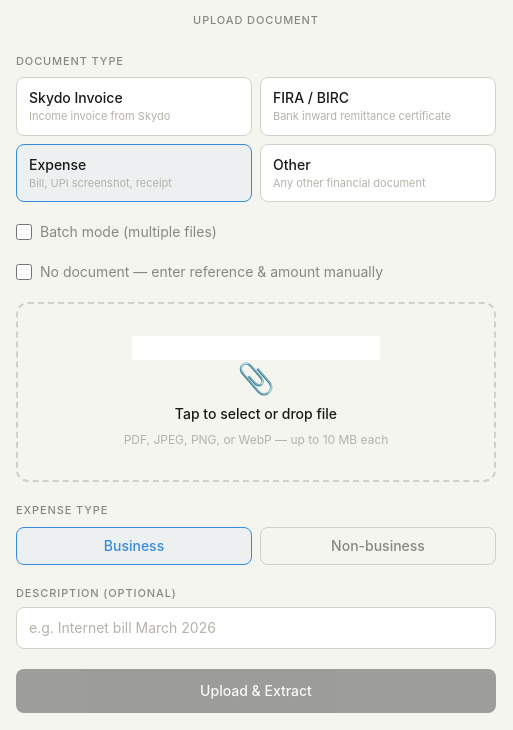
Test: Upload page › saves after confirm and shows success
What coordinates should you click on to do the following:
click the text "Tap to select or drop file"
I would click on:
 (256, 414)
Its box is [175,405,337,422].
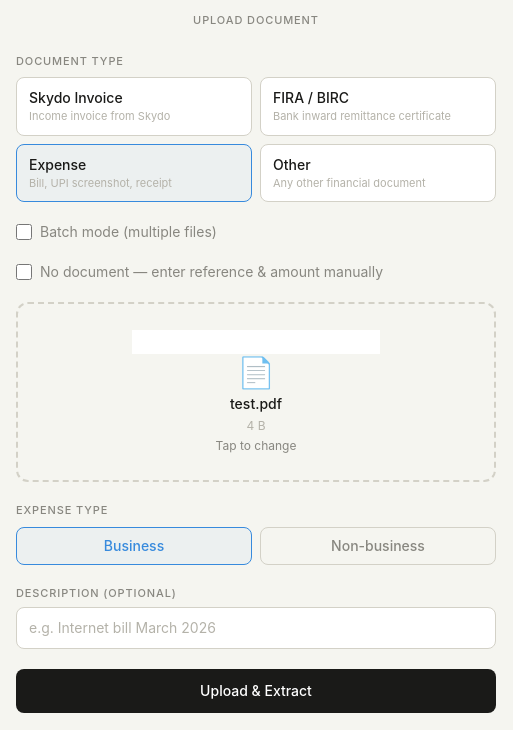
What coordinates should you click on to do the following:
click the button "Upload & Extract"
I would click on:
 (256, 691)
Its box is [16,669,496,713].
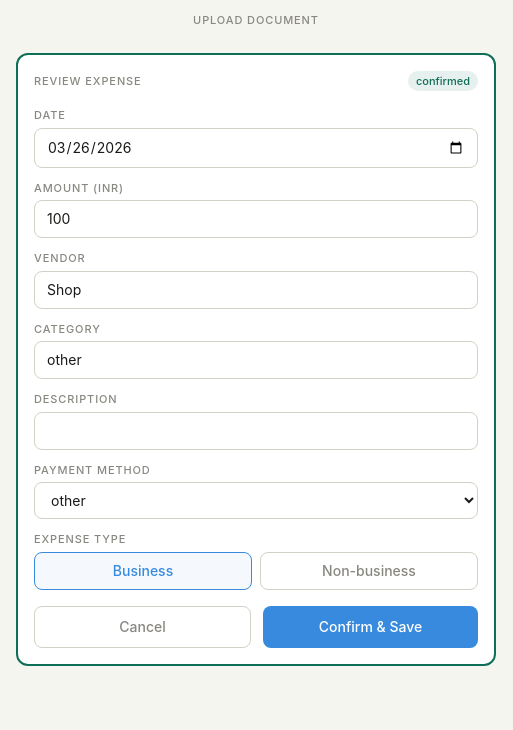
expect the button "Confirm & Save" is shown: met
What coordinates should you click on to do the following:
click the button "Confirm & Save"
I would click on:
 (370, 626)
Its box is [263,606,478,648].
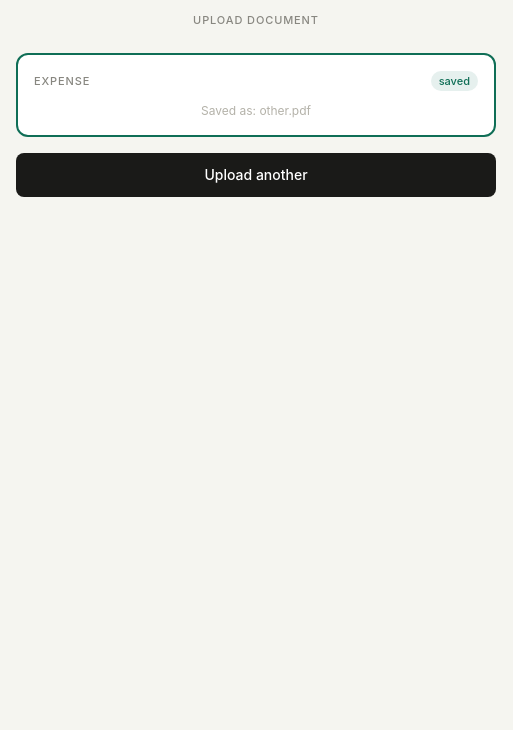
expect the text "saved" is shown: met, box [431,70,478,91]
expect the text "Saved as: other.pdf" is shown: met, box [201,103,311,118]
